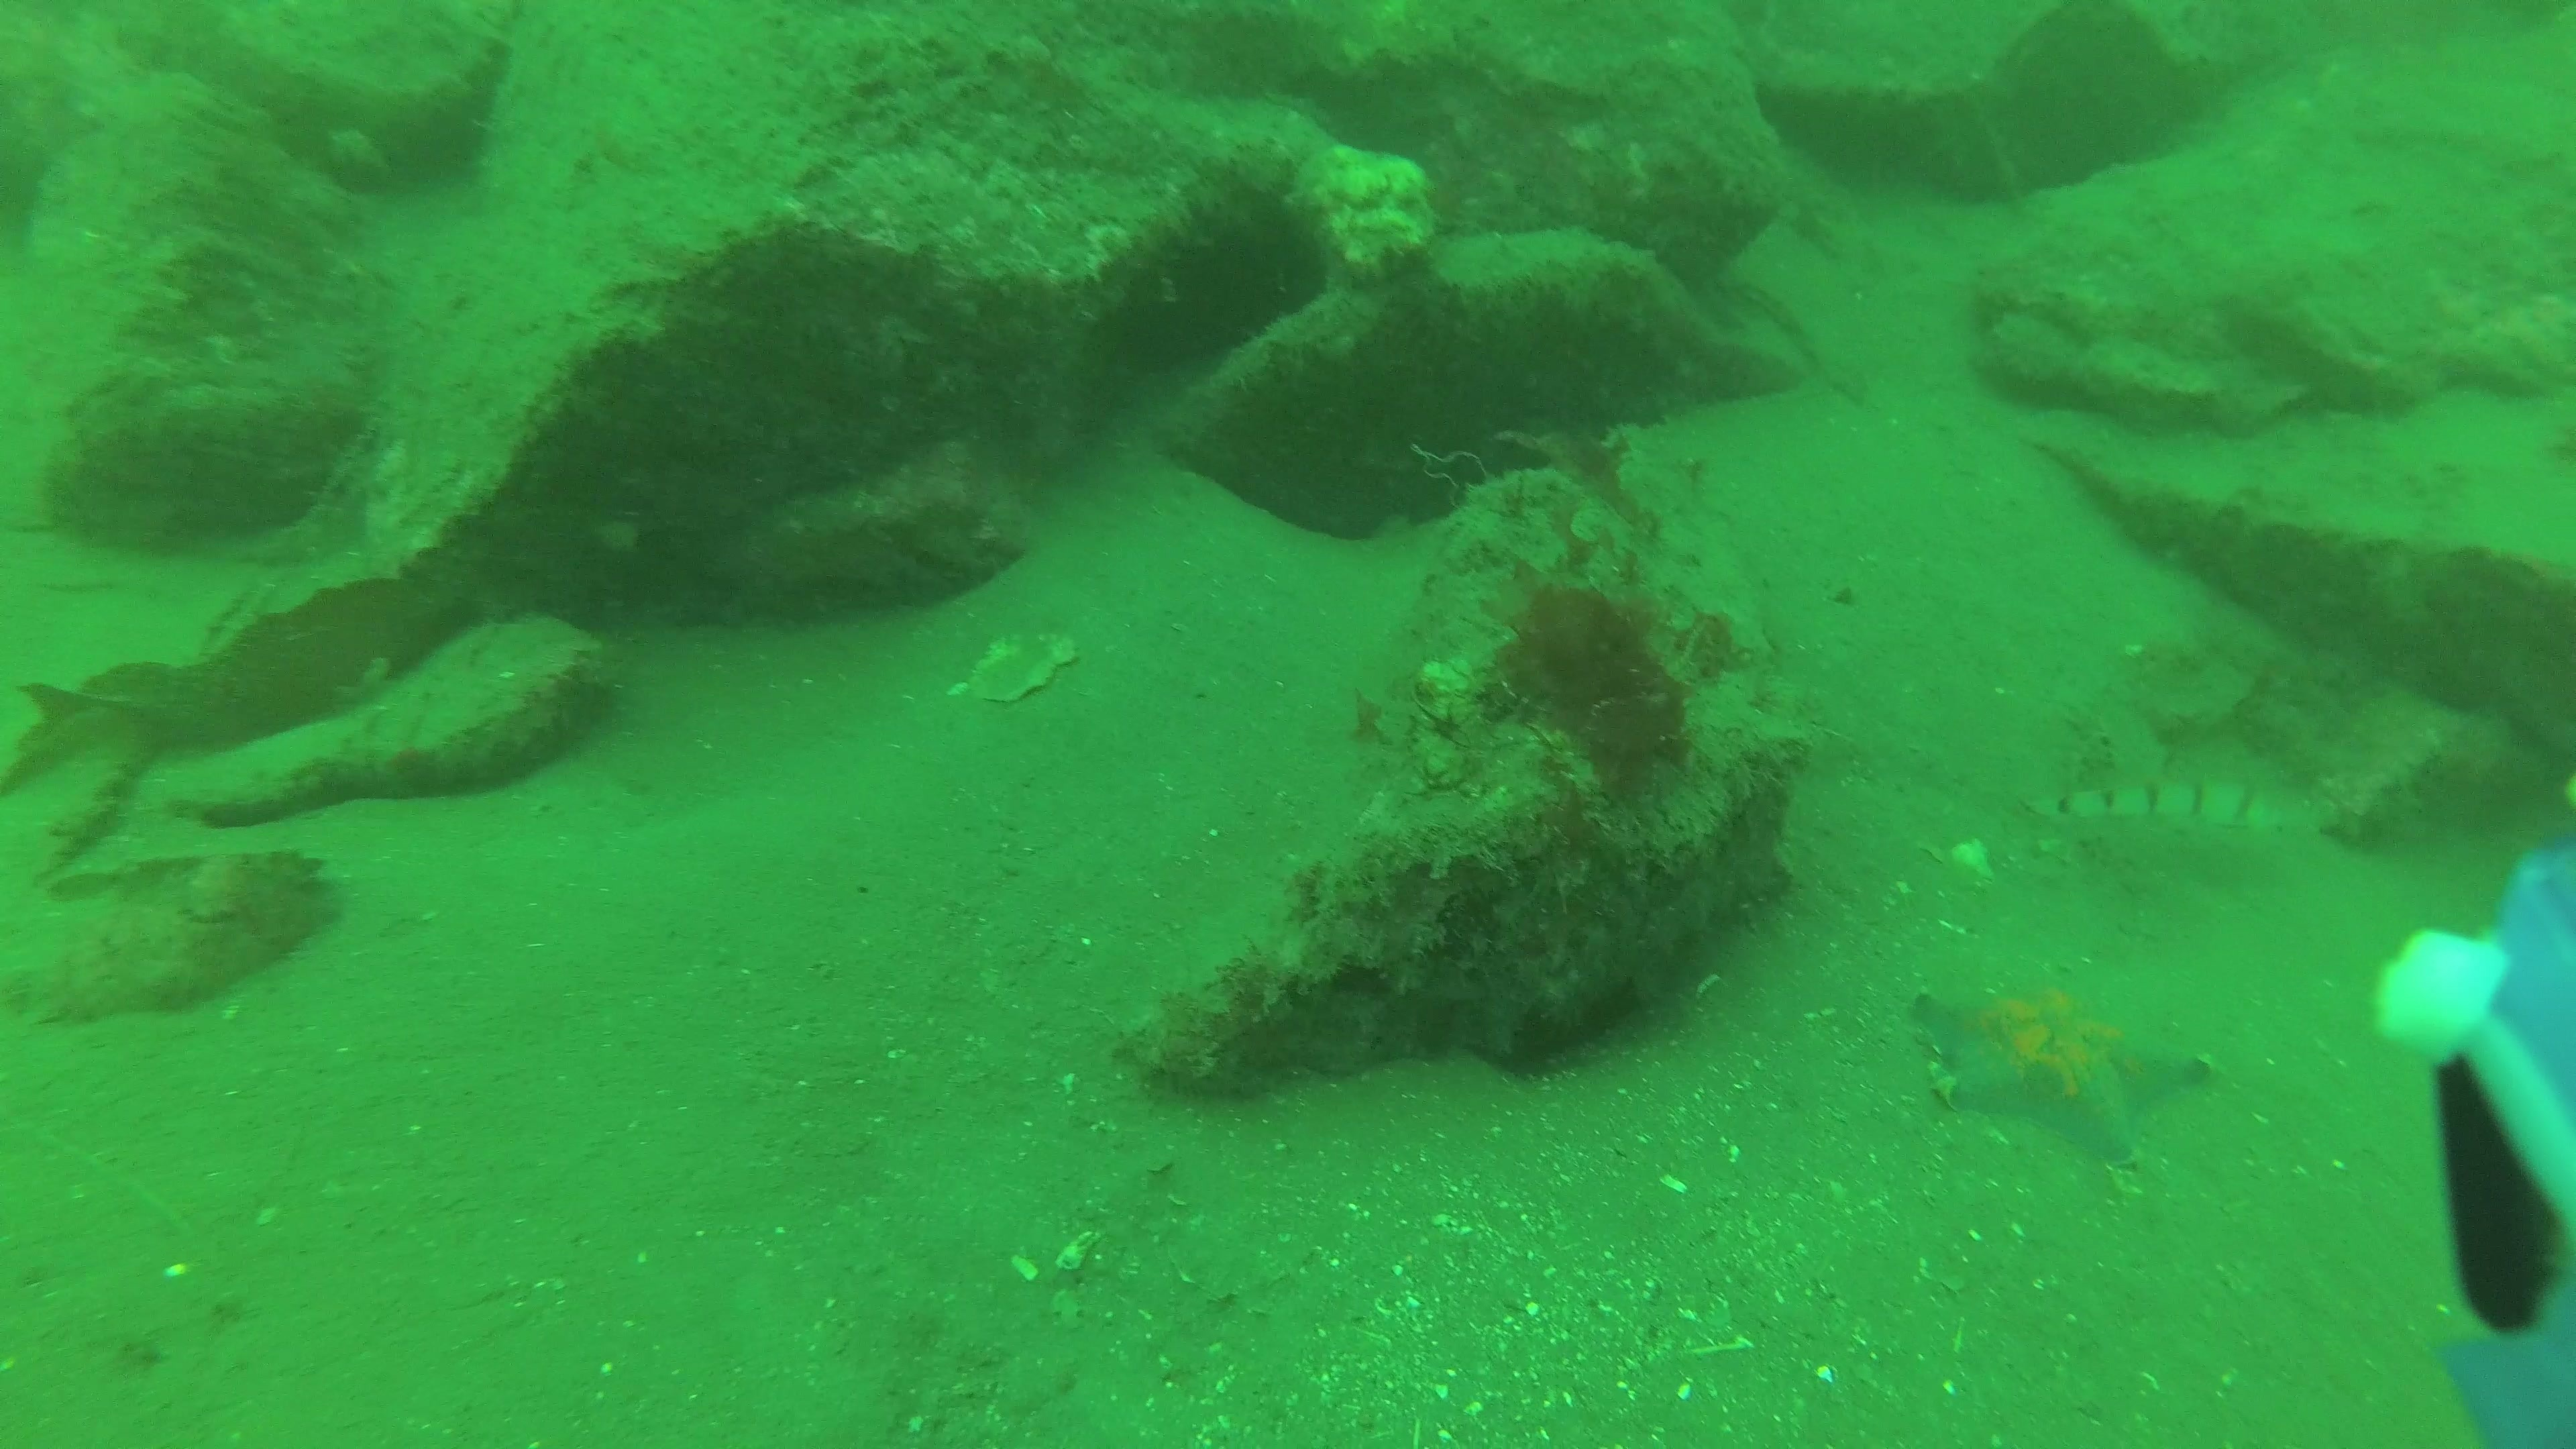starfish: (1904, 966, 2224, 1175)
